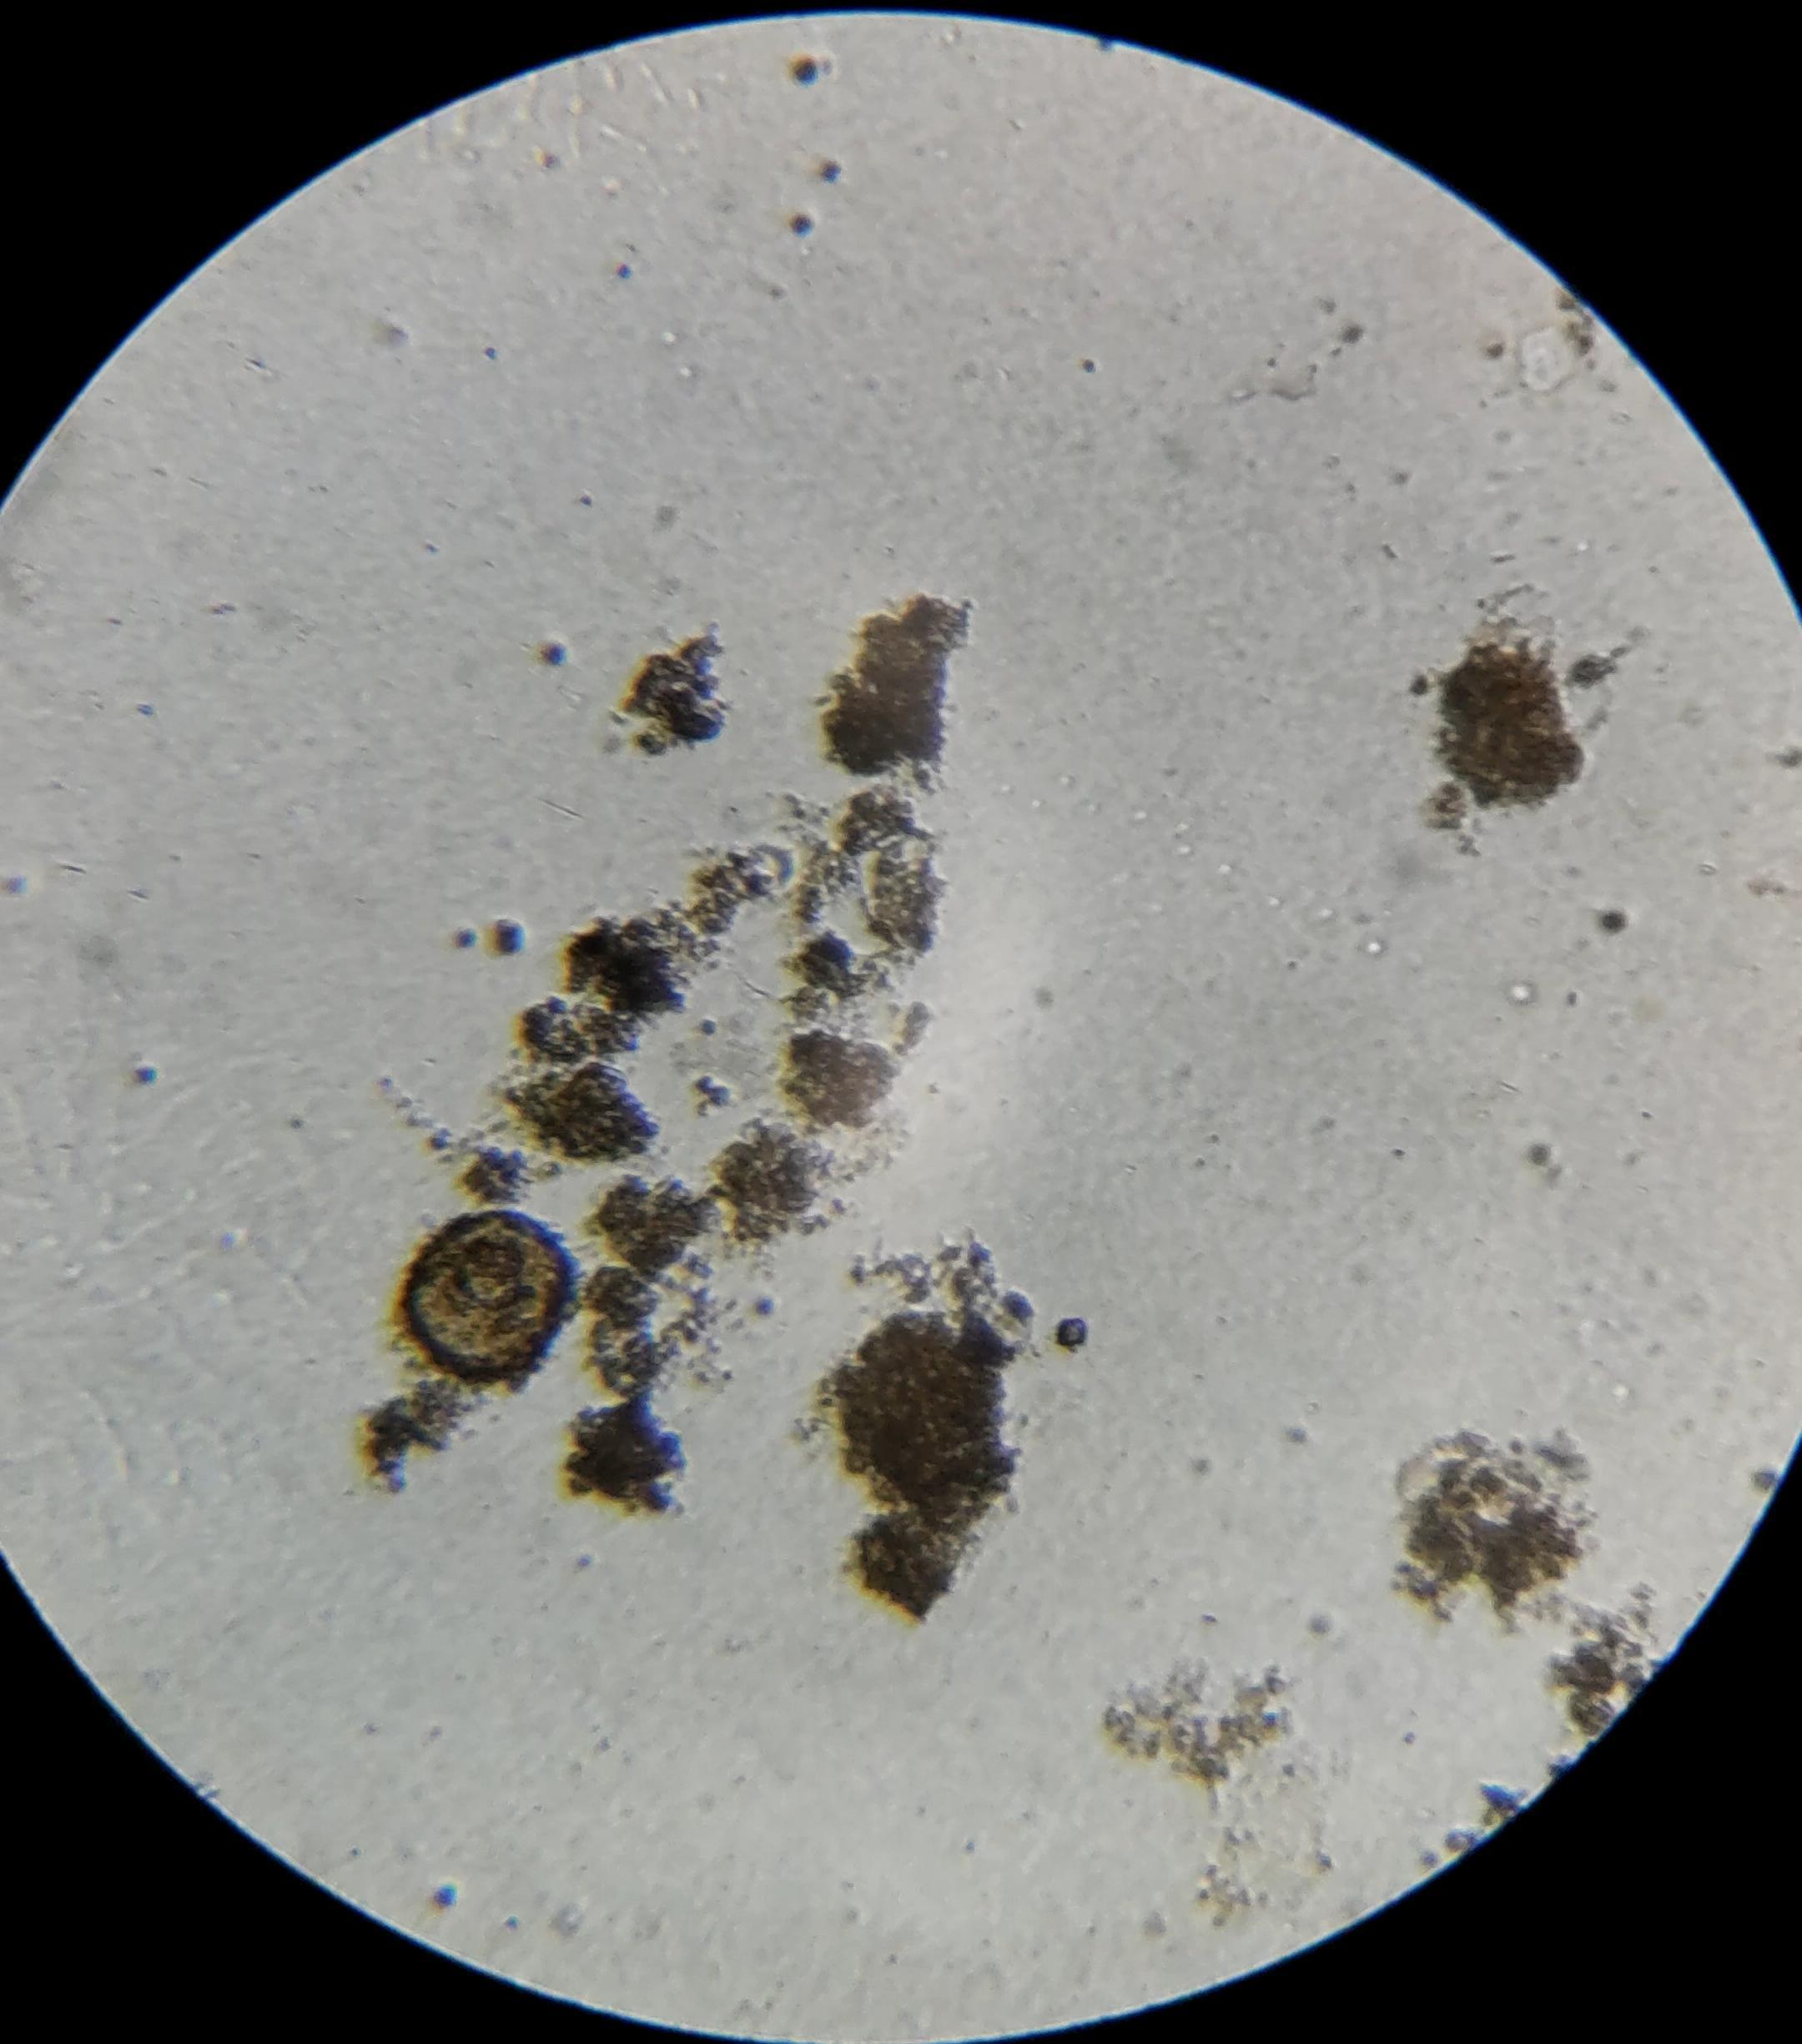Arcella: (409, 1214, 565, 1378)
